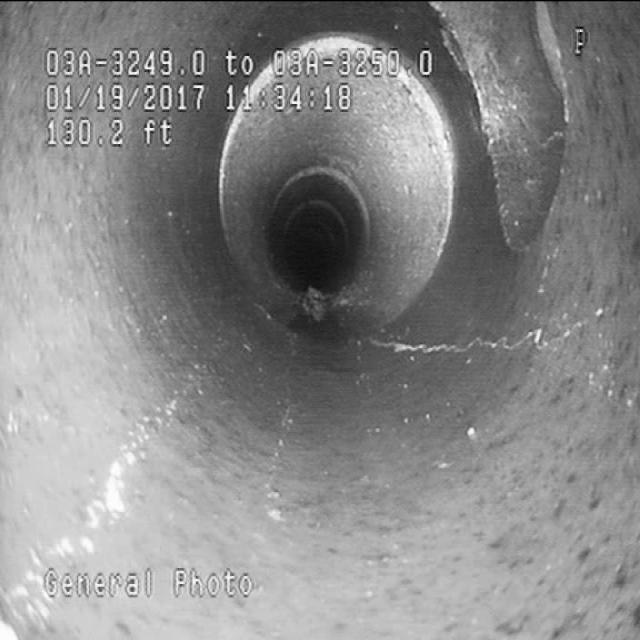Crack: (396, 309, 604, 366)
